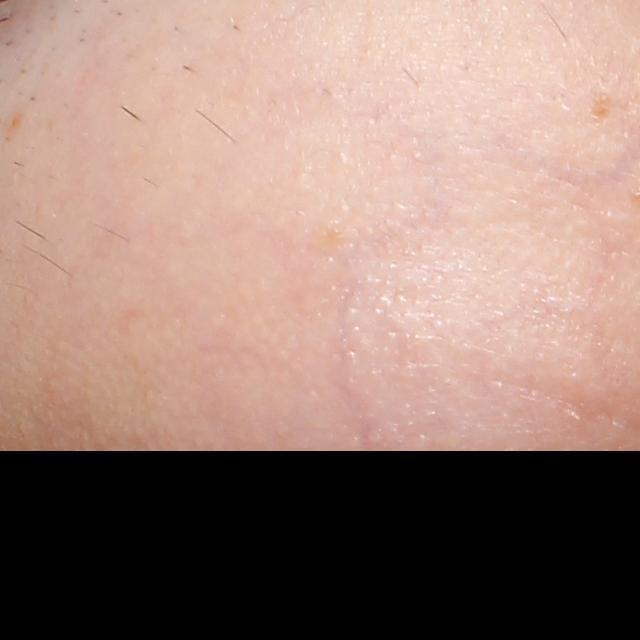melasma: (581, 94, 614, 129)
